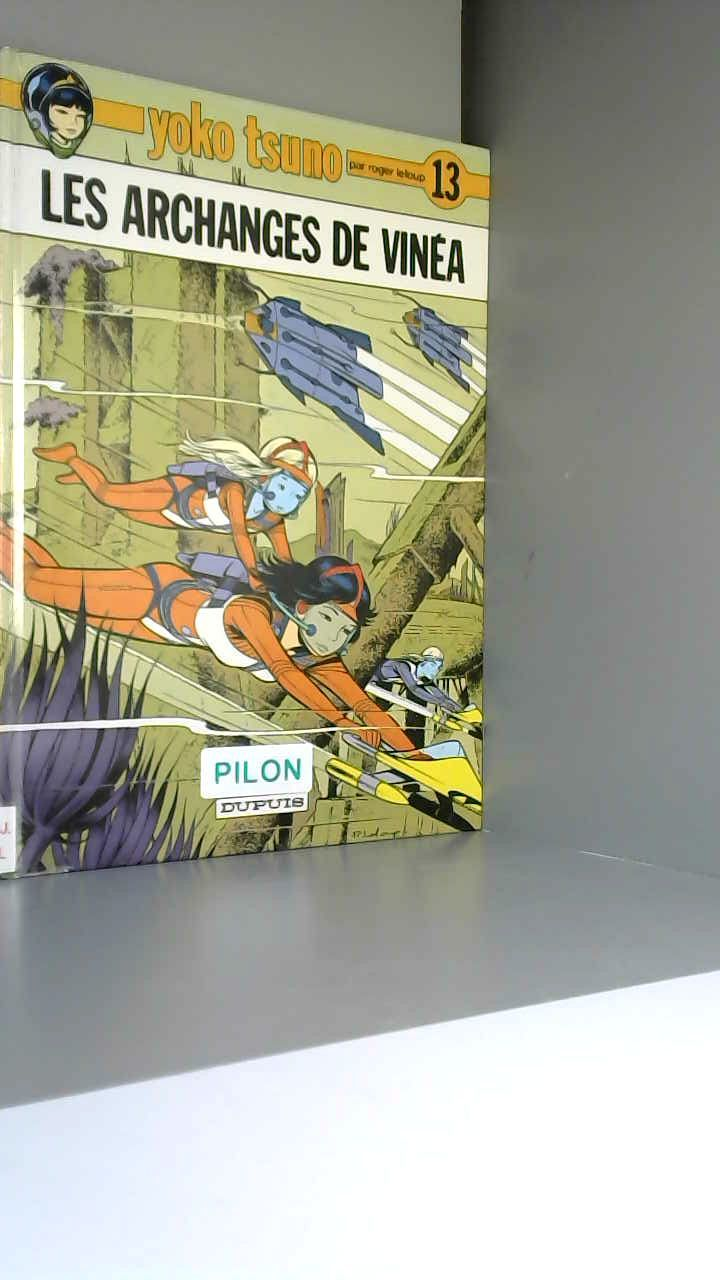book: (0, 22, 513, 900)
